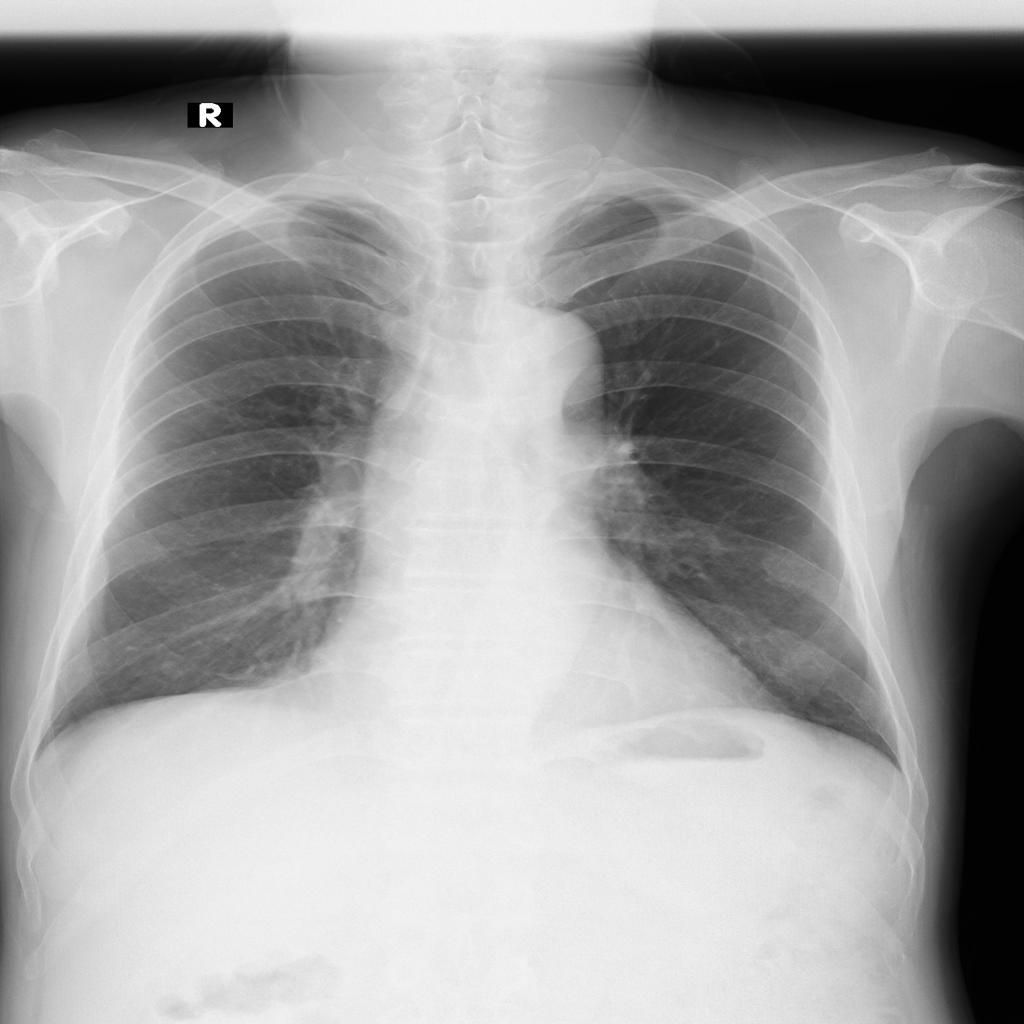Nodule: (161, 662, 184, 683)
